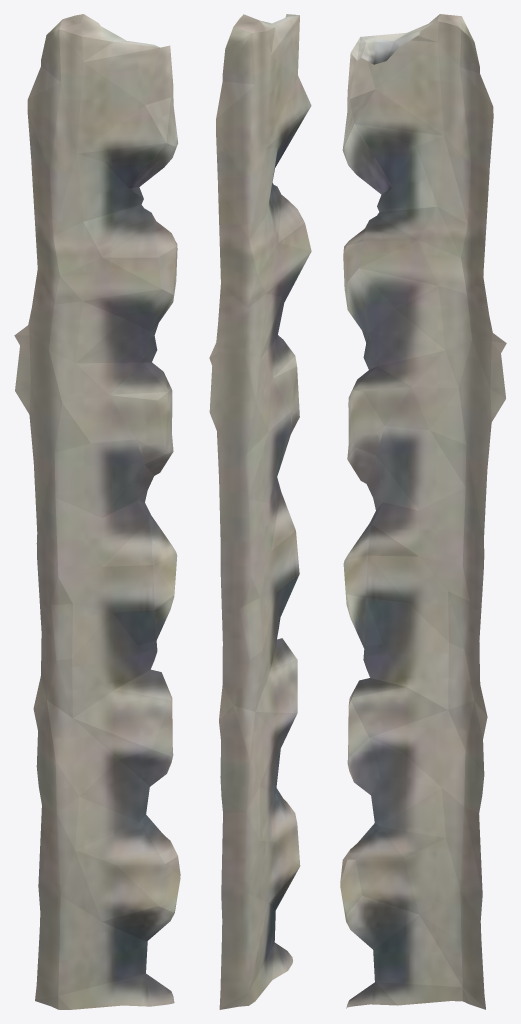
File: Tile_+004_+000_L21_0001310.glb
3 renders of one model, left to right at view 1: azimuth 90°, elevation 25°; view 2: azimuth 150°, elevation 25°; view 3: azimuth 270°, elevation 25°, orthographic.
Parts seen in each view (by area): view 1: rtc; view 2: rtc; view 3: rtc.
Boxes of the visible parts, box(x1,y1,x2,y2) form: rtc: box(14, 14, 180, 1009); rtc: box(209, 14, 311, 1009); rtc: box(340, 14, 506, 1009).
Size of the model in its own units: 0.4451 by 14.28 by 2.18.
Materials: 1 (1 with a texture image).
